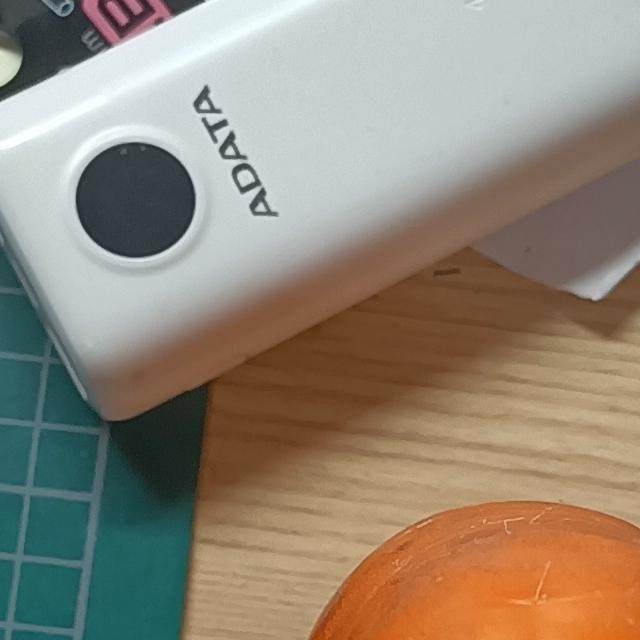carrot: (282, 487, 640, 640)
